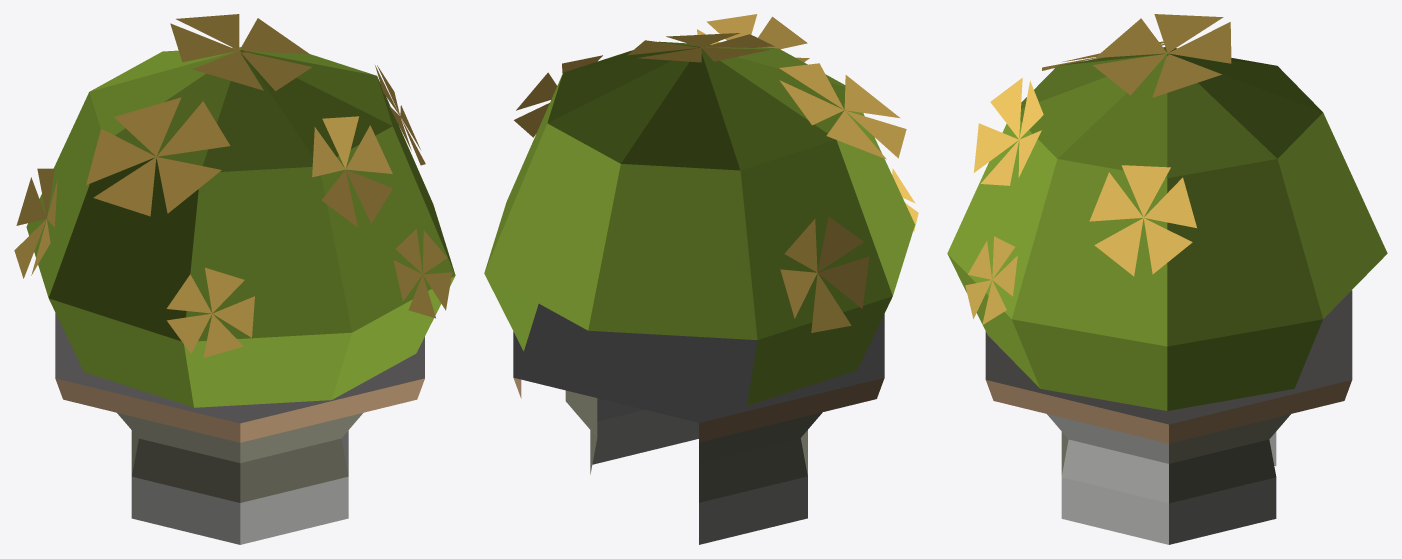
The model's file is forest00.fbx.
The picture shows the model from 3 angles, left to right: view 1: azimuth 30°, elevation 25°; view 2: azimuth 150°, elevation 25°; view 3: azimuth 270°, elevation 25°; orthographic projection.
Visible parts, largest first — view 1: forest00; view 2: forest00; view 3: forest00.
Part boxes in pixels (<box>): forest00: <box>14,14,455,544</box>; forest00: <box>484,14,918,544</box>; forest00: <box>947,14,1387,544</box>.
Size of the model in its own units: 0.8328 by 0.949 by 0.8328.
Materials: 1 (1 with a texture image).
